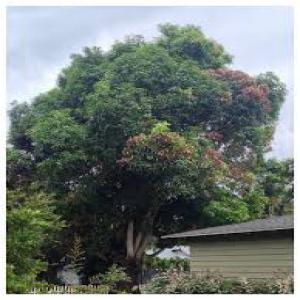Tree: (11, 20, 278, 278)
